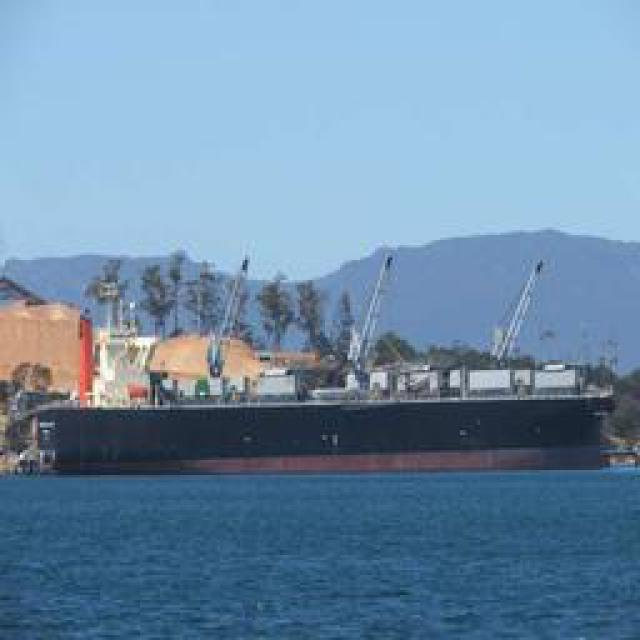Ship: (12, 241, 625, 459)
